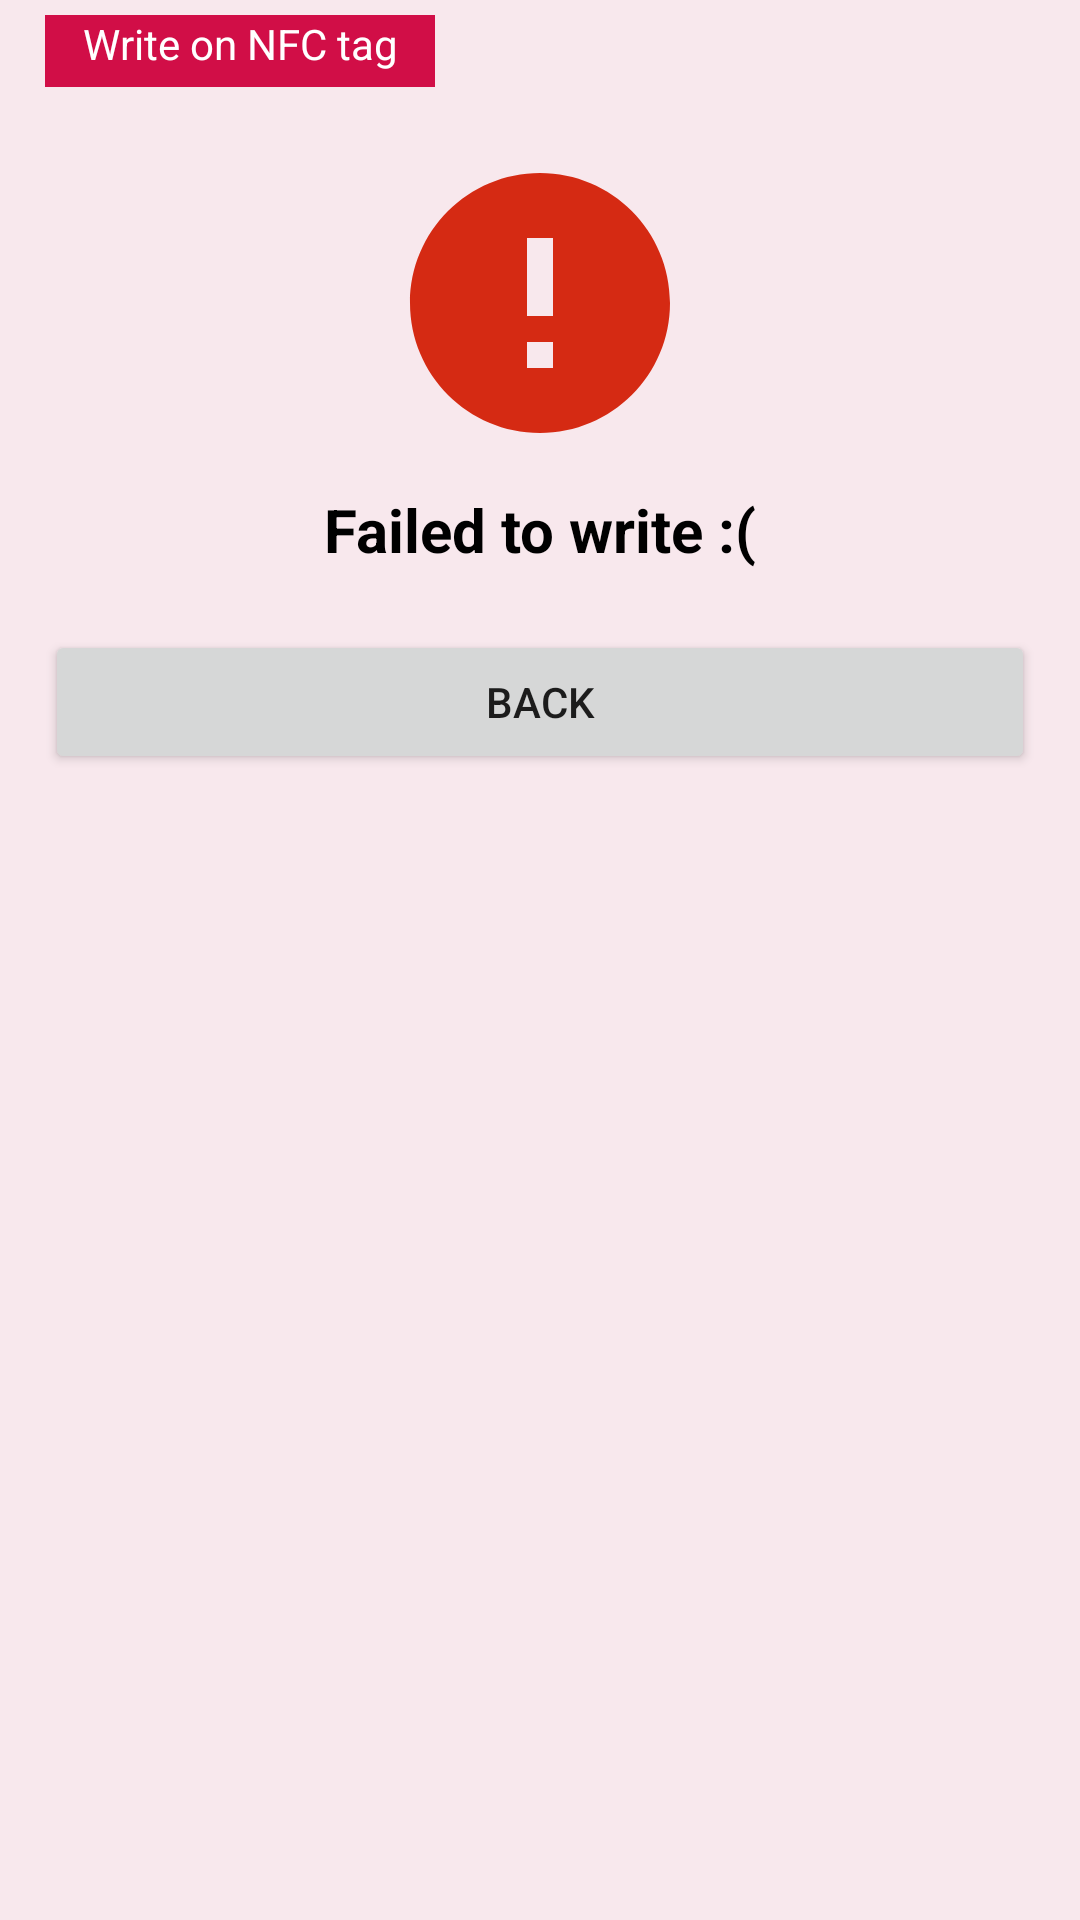

Point at icon controls on the screen. Image size 1080×1920, points as point (x, y).
error: point (540, 303)
